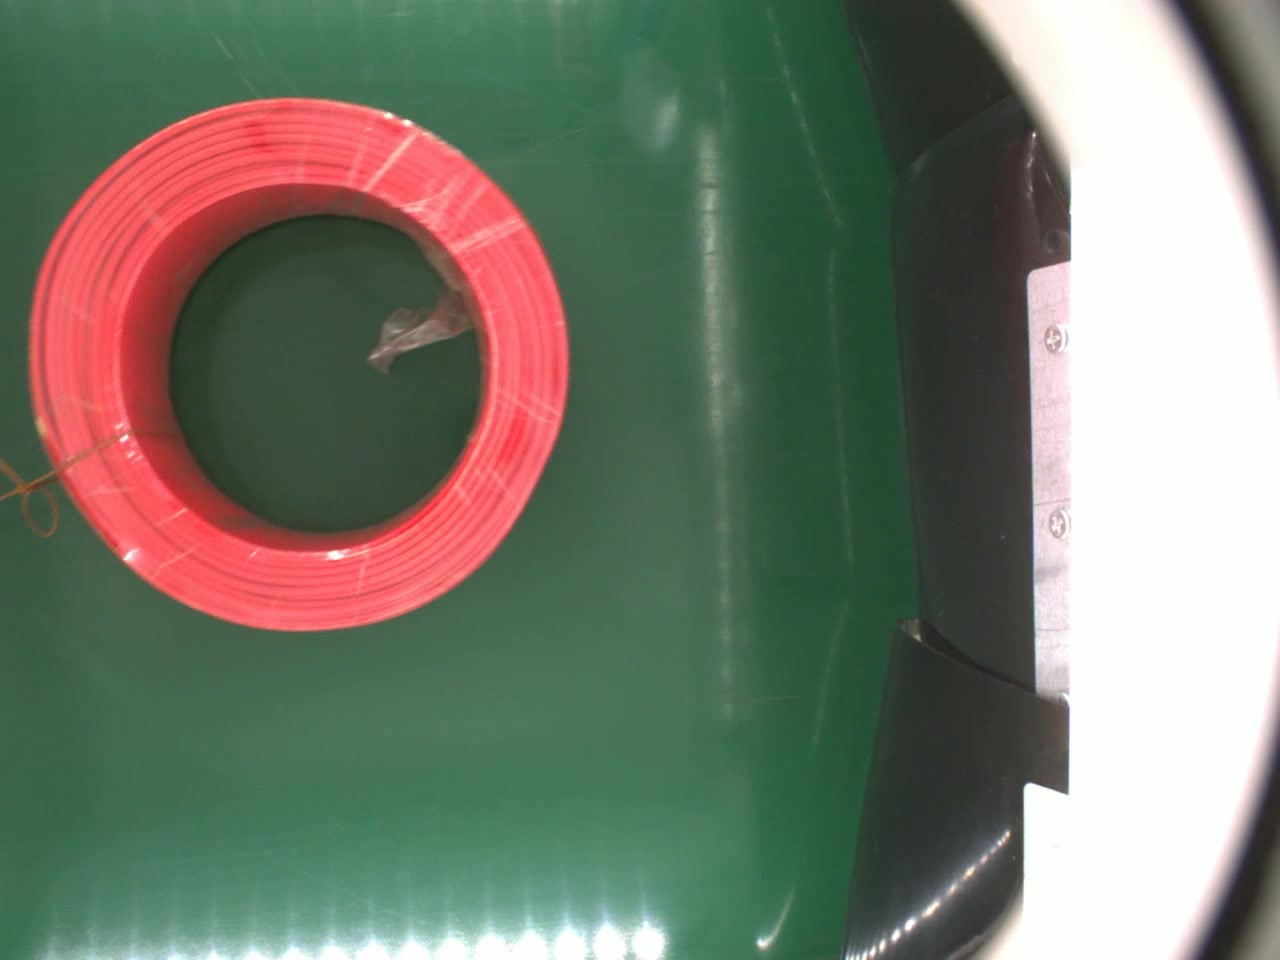red: (29, 89, 575, 640)
